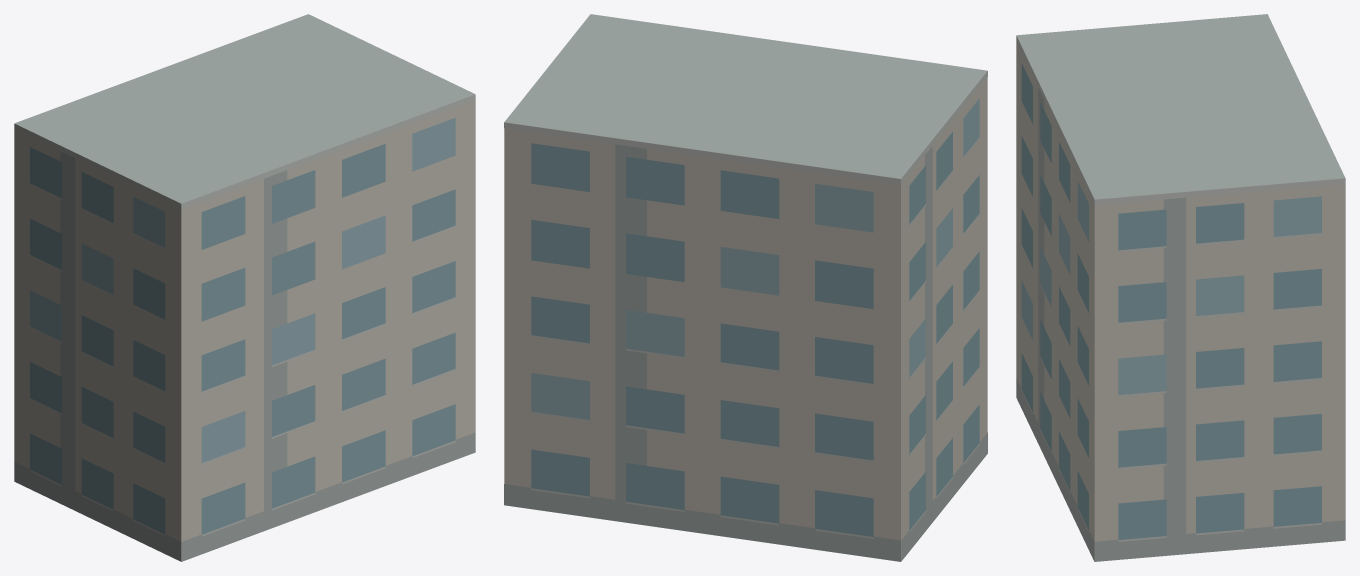
Rendered from residential-9f4d1f93-dbb0-4489-98cf-7f26bf0344dd.glb.
3 renders of one model, left to right at view 1: azimuth 30°, elevation 25°; view 2: azimuth 150°, elevation 25°; view 3: azimuth 270°, elevation 25°, orthographic. The views are drawn at different scales.
Visible parts, largest first — view 1: residential-9f4d1f93-dbb0-4489-98cf-7f26bf0344dd.tmp; view 2: residential-9f4d1f93-dbb0-4489-98cf-7f26bf0344dd.tmp; view 3: residential-9f4d1f93-dbb0-4489-98cf-7f26bf0344dd.tmp.
Boxes of the visible parts, x1=… form: residential-9f4d1f93-dbb0-4489-98cf-7f26bf0344dd.tmp: x1=14, y1=14, x2=475, y2=561; residential-9f4d1f93-dbb0-4489-98cf-7f26bf0344dd.tmp: x1=504, y1=14, x2=987, y2=561; residential-9f4d1f93-dbb0-4489-98cf-7f26bf0344dd.tmp: x1=1016, y1=14, x2=1345, y2=561.
Bounding box in the file's own units: 16.76 × 15.25 × 12.57.
